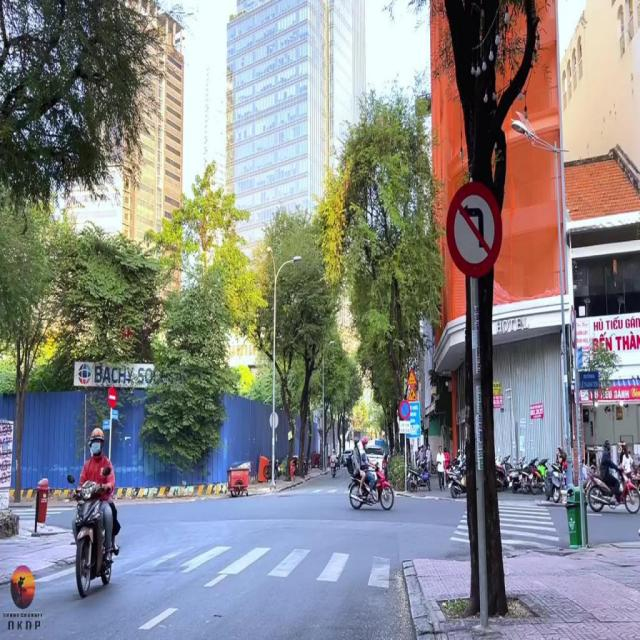cam_do_xe: (399, 400, 410, 420)
cam_re_trai: (446, 181, 503, 279)
cam_xe_di_nguoc_chieu: (108, 387, 116, 408)
cong_truong: (408, 385, 418, 401)
di_cham: (407, 368, 418, 386)
